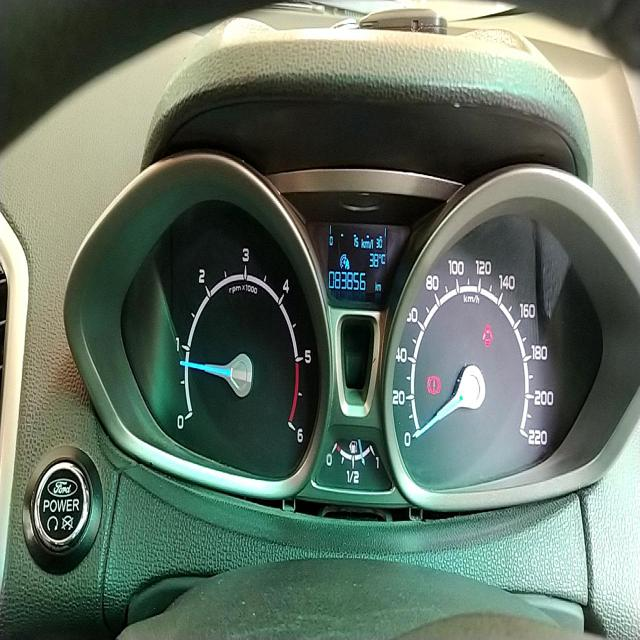odometer: (327, 265, 367, 295)
